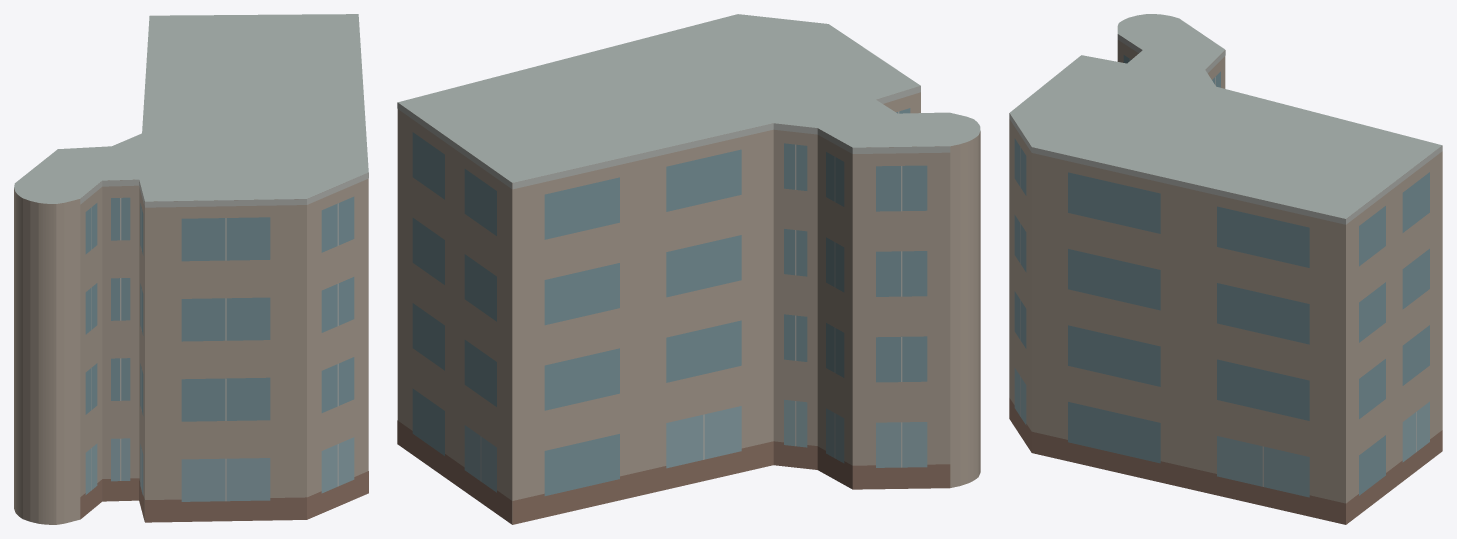
File: survey-upis-32739442.glb
3 views of the same model, side by side, from view 1: azimuth 30°, elevation 25°; view 2: azimuth 150°, elevation 25°; view 3: azimuth 270°, elevation 25° (orthographic). The views are drawn at different scales.
Visible parts, largest first — view 1: survey-upis-32739442.tmp; view 2: survey-upis-32739442.tmp; view 3: survey-upis-32739442.tmp.
Part boxes in pixels (x1,y1,x2,y2): survey-upis-32739442.tmp: (14,14,368,524); survey-upis-32739442.tmp: (397,14,980,524); survey-upis-32739442.tmp: (1009,14,1442,524).
Size of the model in its own units: 18.55 by 12.9 by 16.56.
